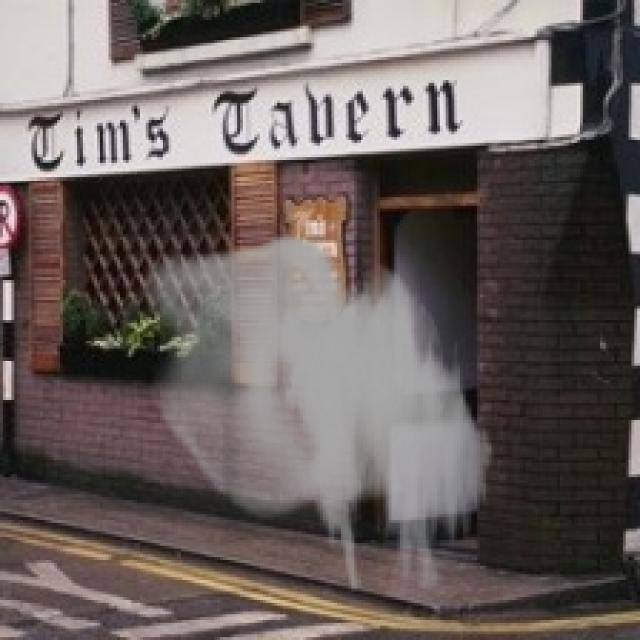Smoke: (142, 234, 498, 592)
